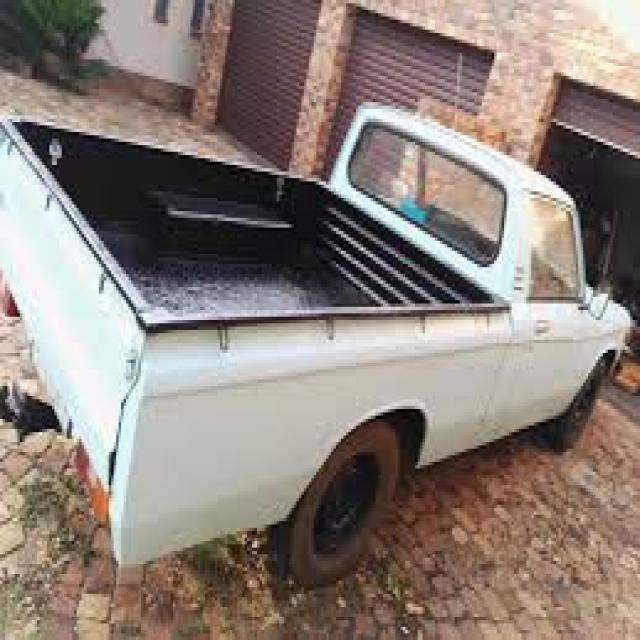Pickup Trucks: (2, 102, 632, 590)
